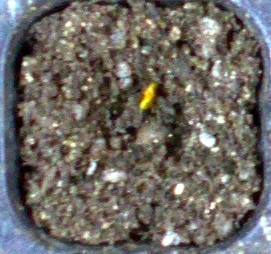pepper seed: (58, 24, 218, 137)
